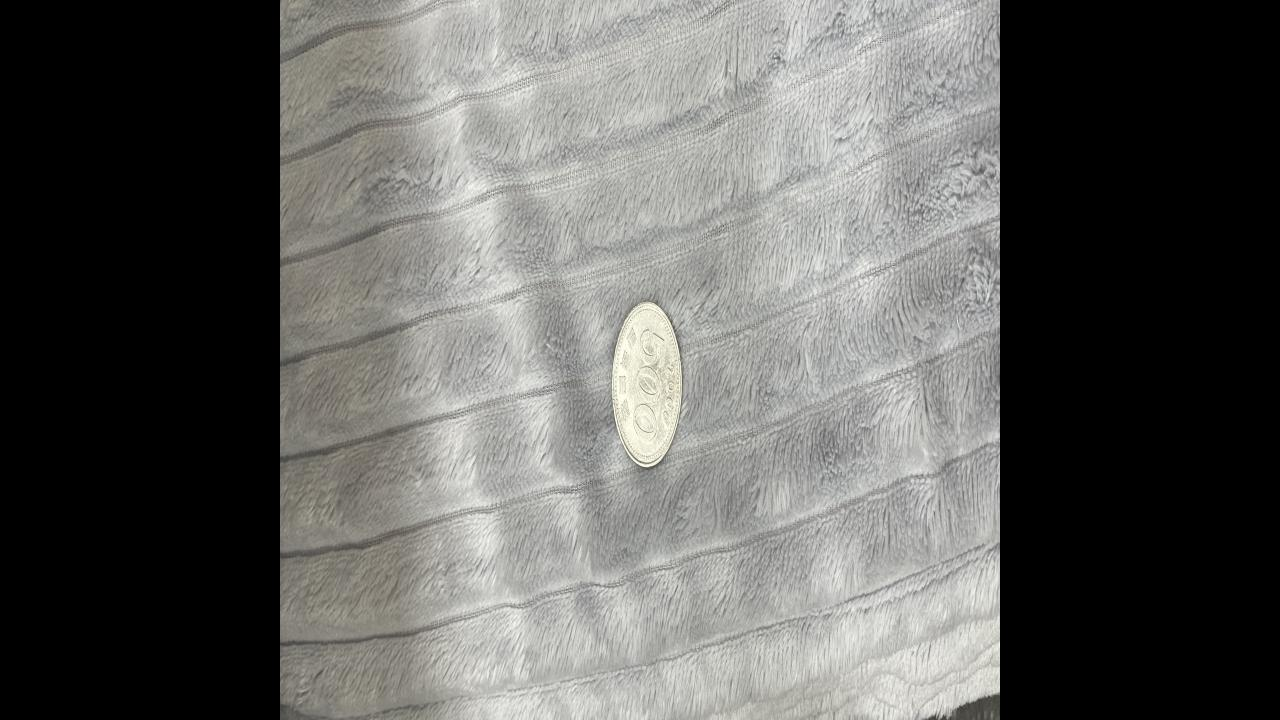coin: (612, 294, 684, 468)
